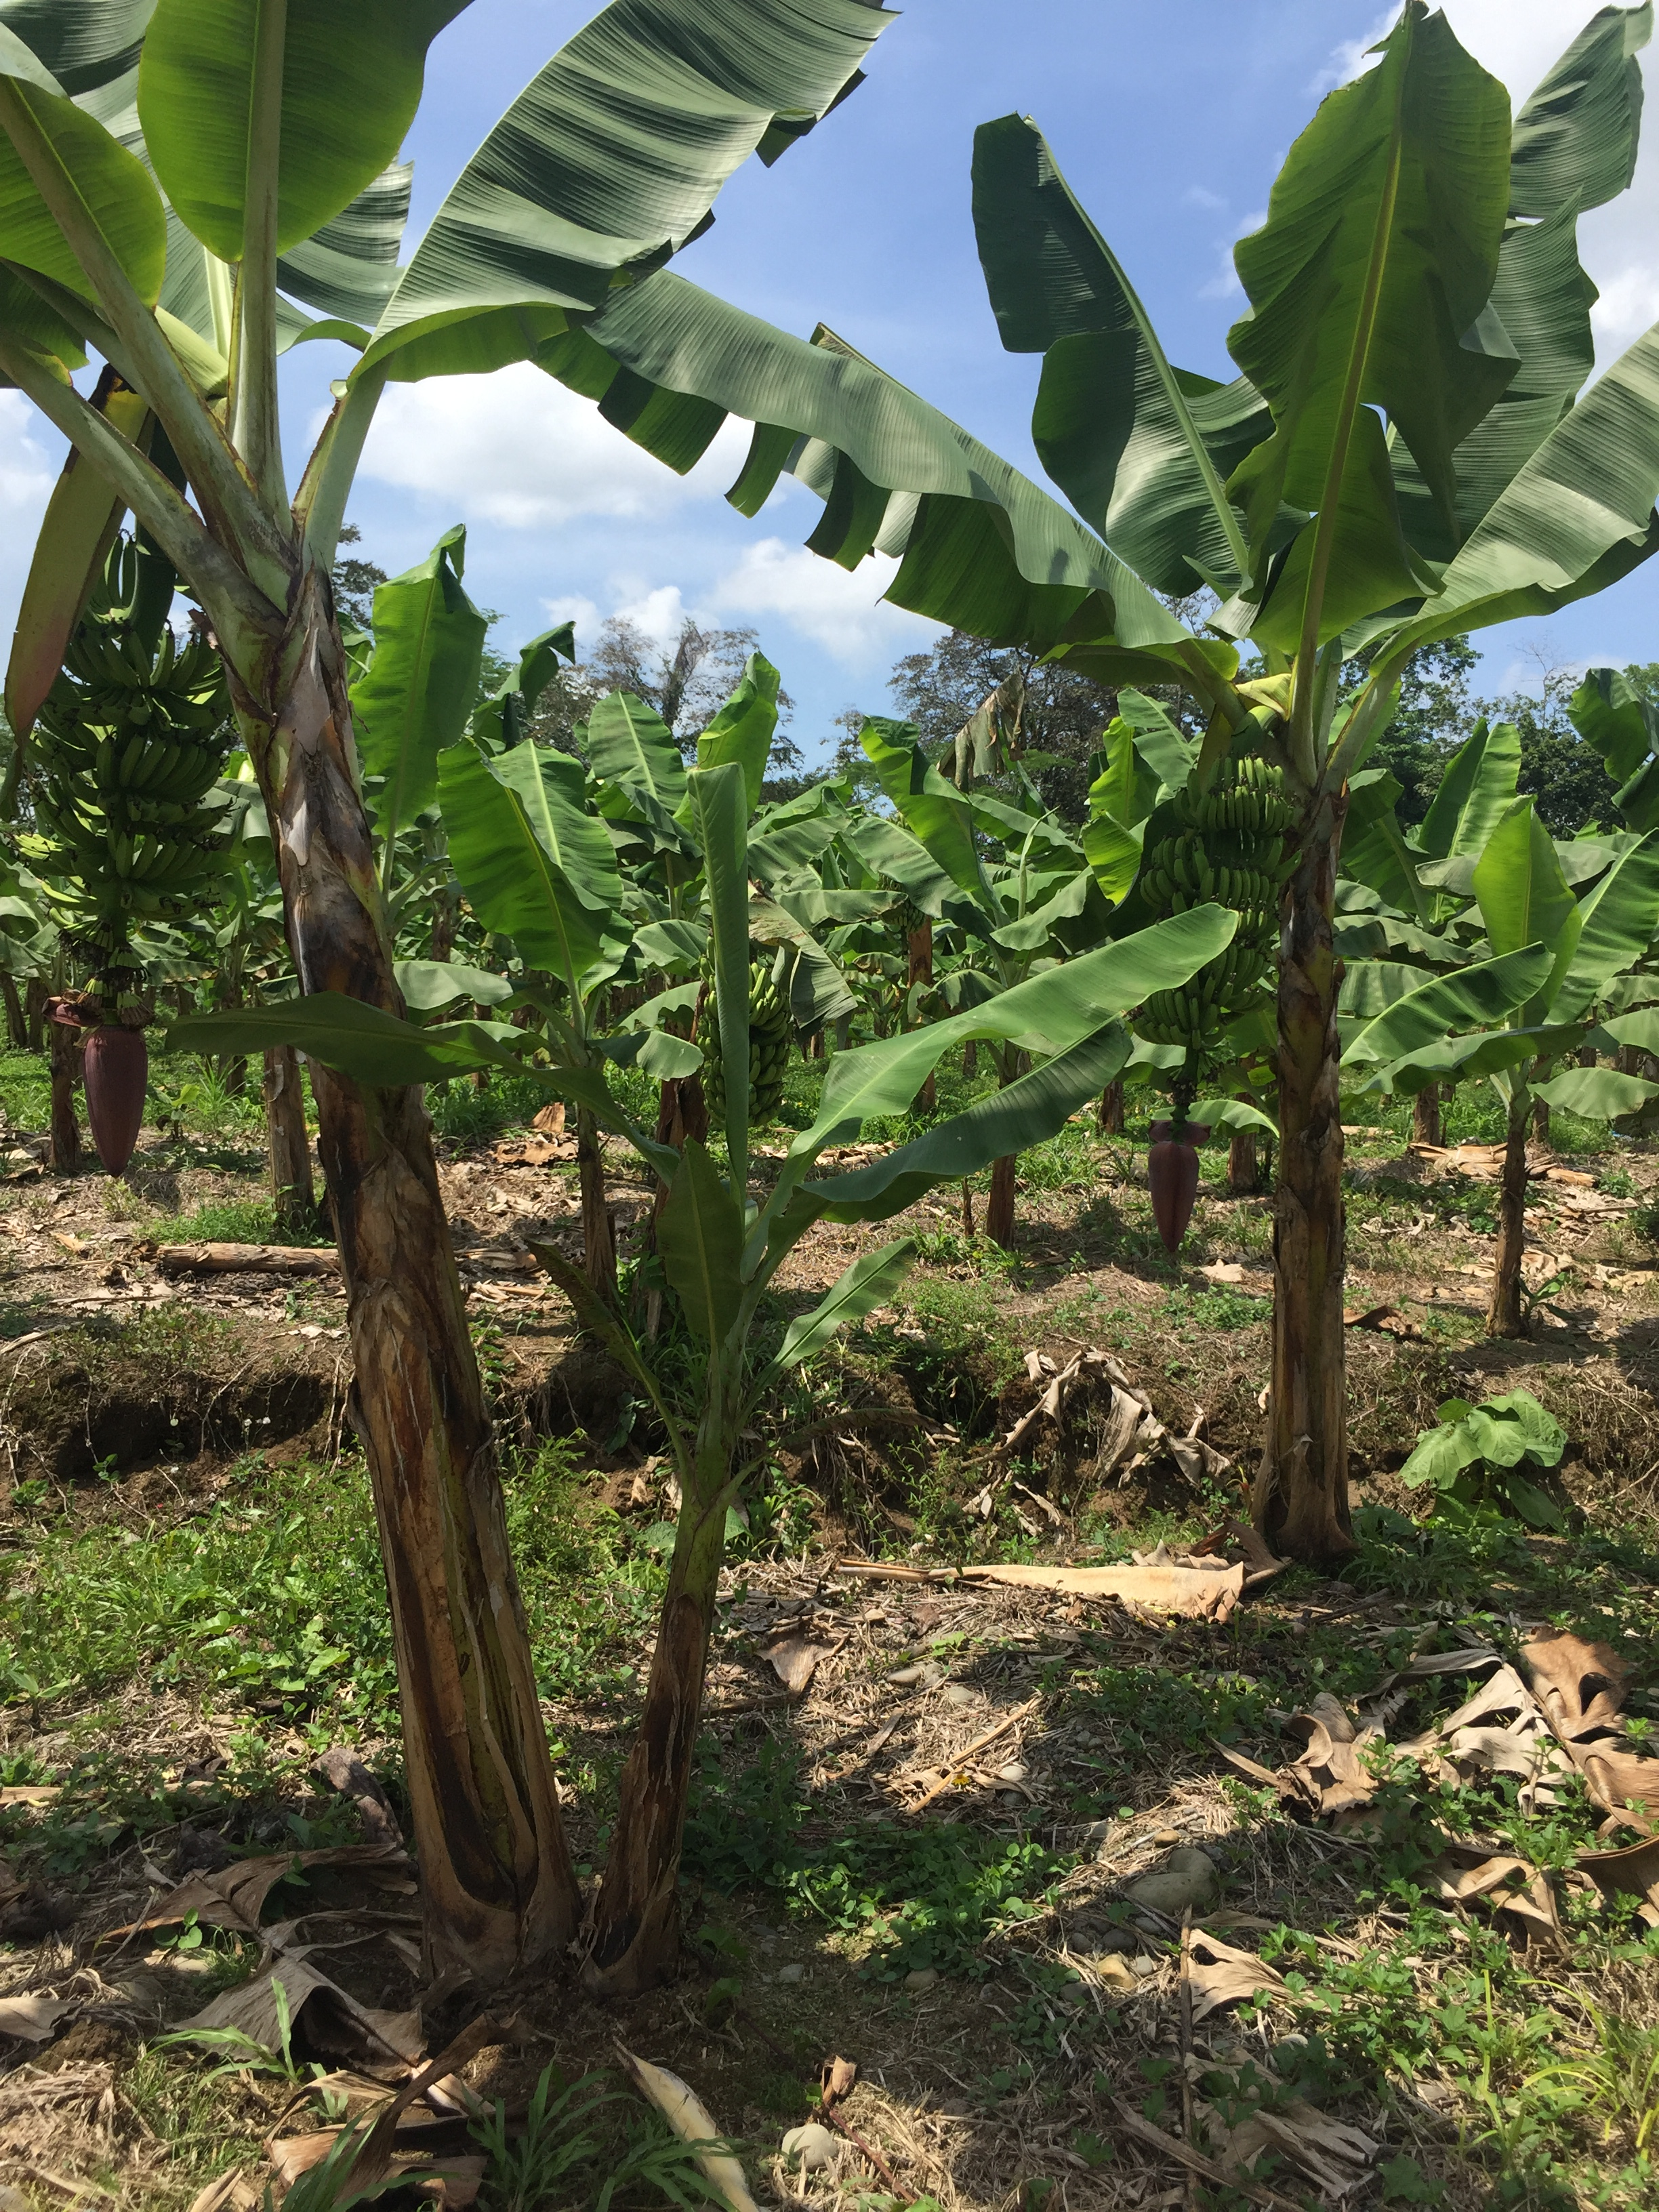candleleafs: (687, 759, 748, 1188)
